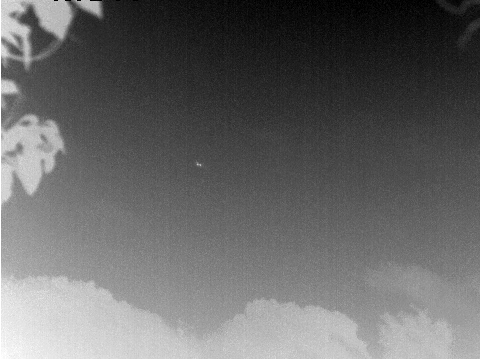dim target: (194, 160, 202, 168)
